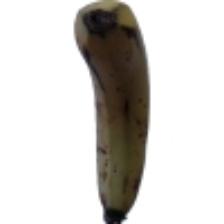banana: (30, 63, 198, 205)
